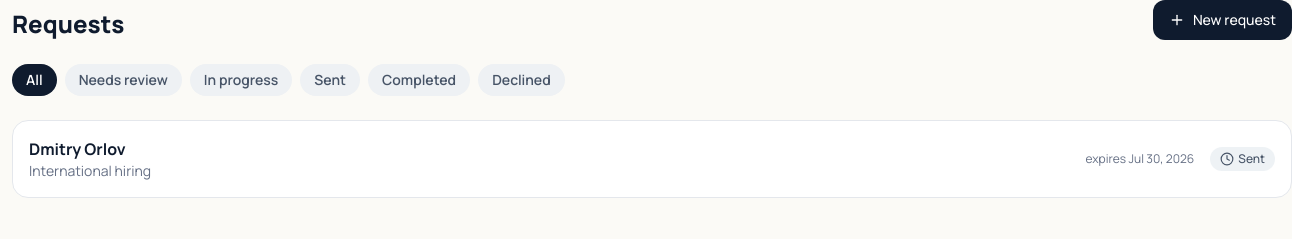
Test: RequestsPage › passes the status filter to the API and shows the empty state
The width and height of the screenshot is (1292, 239).
Check: the text "Dmitry Orlov" is shown, box [29, 138, 126, 160]
Click the button "Completed" at (419, 80), box [368, 64, 470, 96]
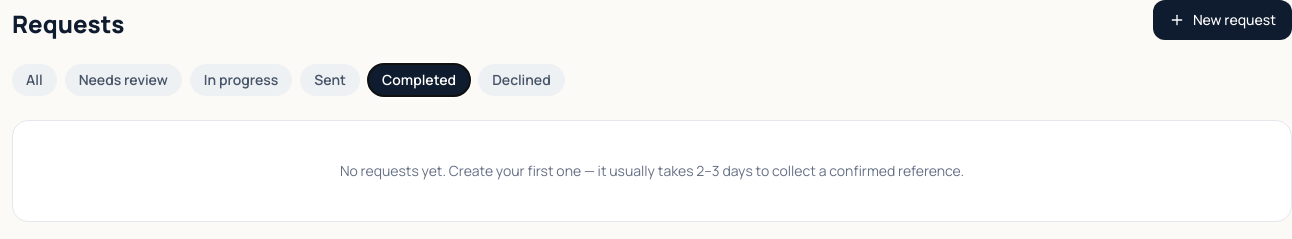
Check: the text "No requests yet" is shown, box [340, 161, 964, 180]
